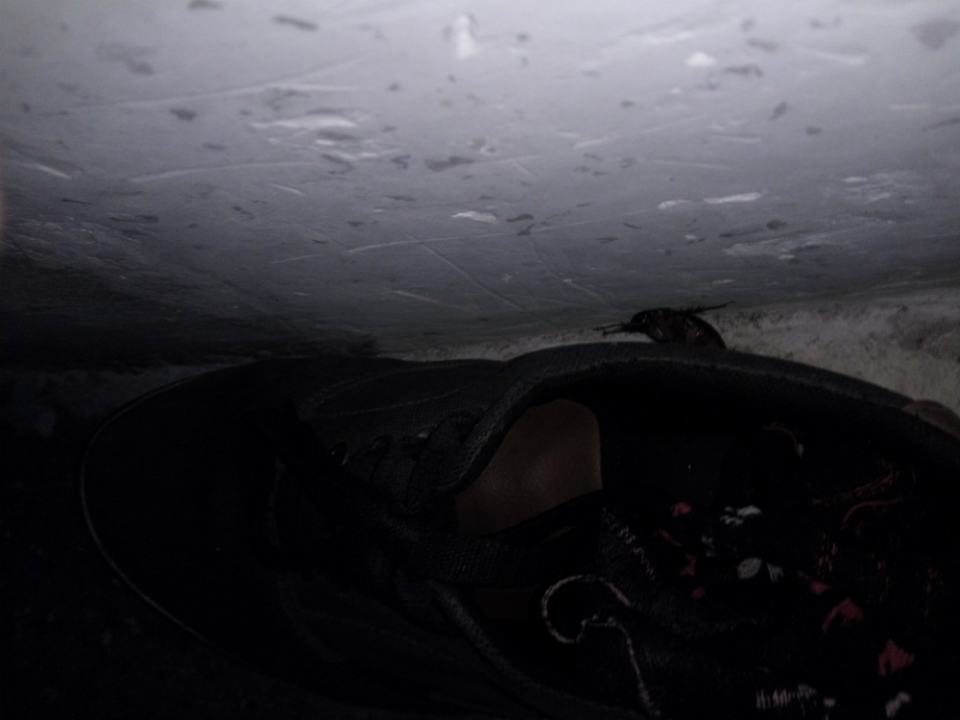cockroach: (588, 306, 789, 354)
